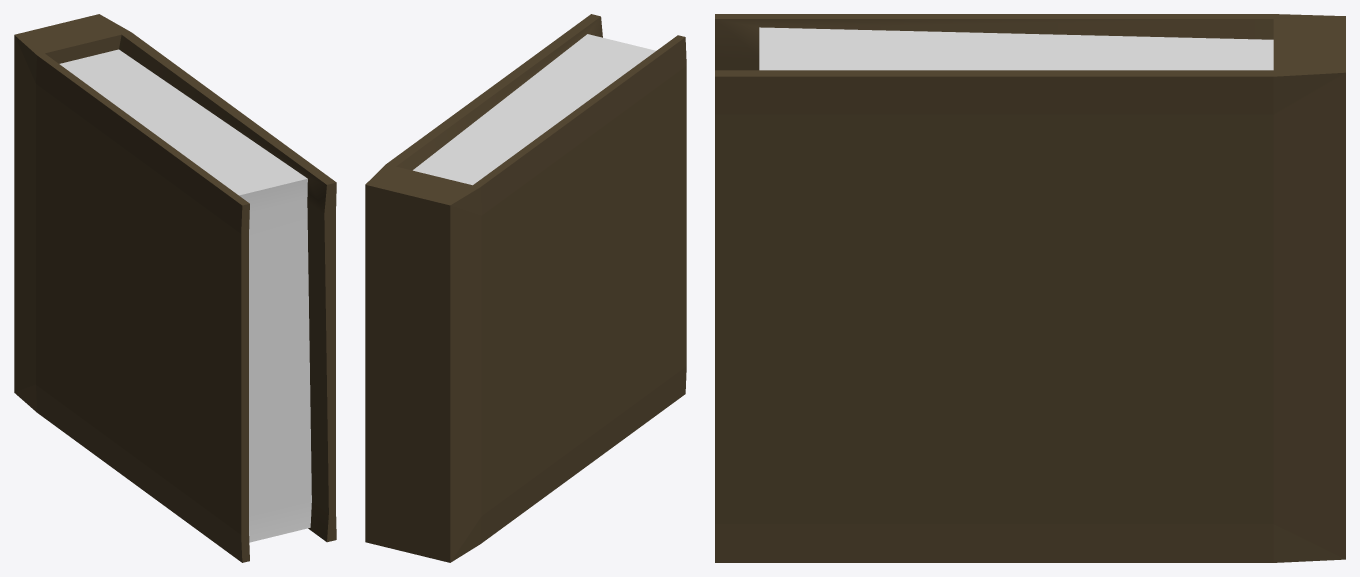
The model's file is Small_Book_Brown.fbx.
The picture shows the model from 3 angles, left to right: view 1: azimuth 30°, elevation 25°; view 2: azimuth 150°, elevation 25°; view 3: azimuth 270°, elevation 25°; orthographic projection. The views are drawn at different scales.
Parts seen in each view (by area): view 1: Book5; view 2: Book5; view 3: Book5.
Part boxes in pixels (x1,y1,x2,y2): Book5: (14,14,336,562); Book5: (365,14,686,562); Book5: (715,14,1345,562).
Bounding box in the file's own units: 0.0717 × 0.2566 × 0.3014.
